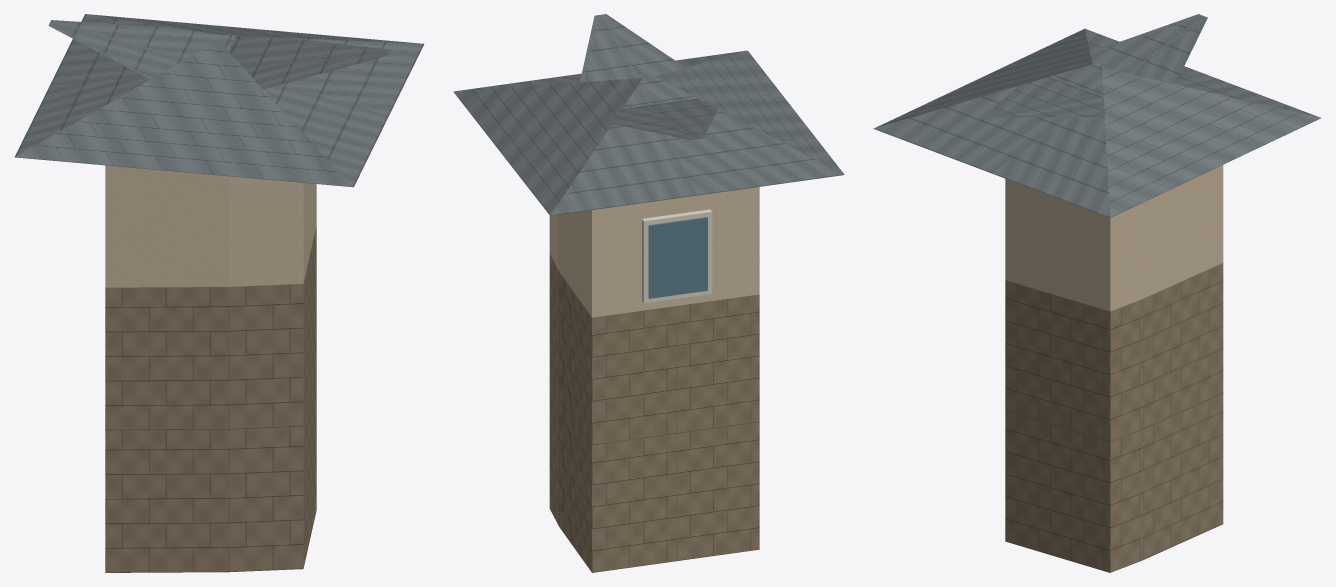
File: core_0053.gltf
3 renders of one model, left to right at view 1: azimuth 30°, elevation 25°; view 2: azimuth 150°, elevation 25°; view 3: azimuth 270°, elevation 25°, orthographic. The views are drawn at different scales.
Visible parts, largest first — view 1: core_0053; view 2: core_0053; view 3: core_0053.
Part boxes in pixels (left/top/right/bottom): core_0053: left=15, top=14, right=424, bottom=572; core_0053: left=453, top=14, right=844, bottom=572; core_0053: left=873, top=14, right=1321, bottom=572.
Bounding box in the file's own units: 7.06 × 8 × 7.06.
Materials: 5 (5 with a texture image).
